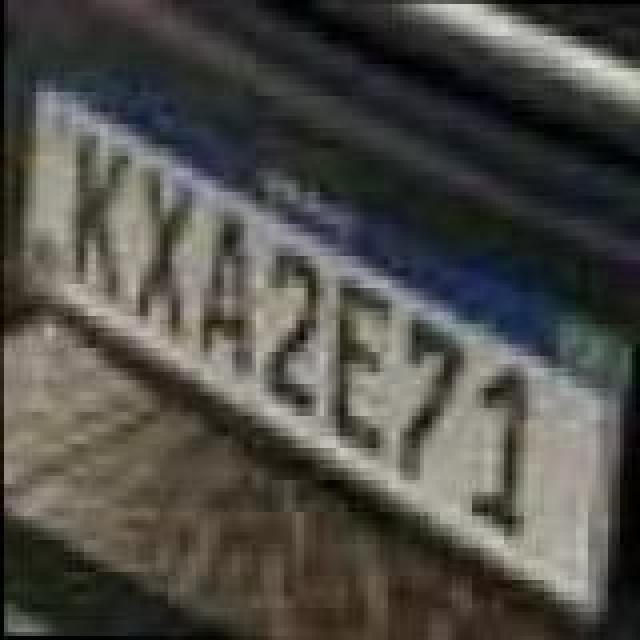1: (464, 366, 544, 538)
2: (264, 242, 332, 414)
7: (392, 316, 472, 488)
A: (194, 208, 274, 380)
E: (328, 282, 396, 454)
K: (64, 128, 144, 312)
X: (130, 168, 198, 340)
